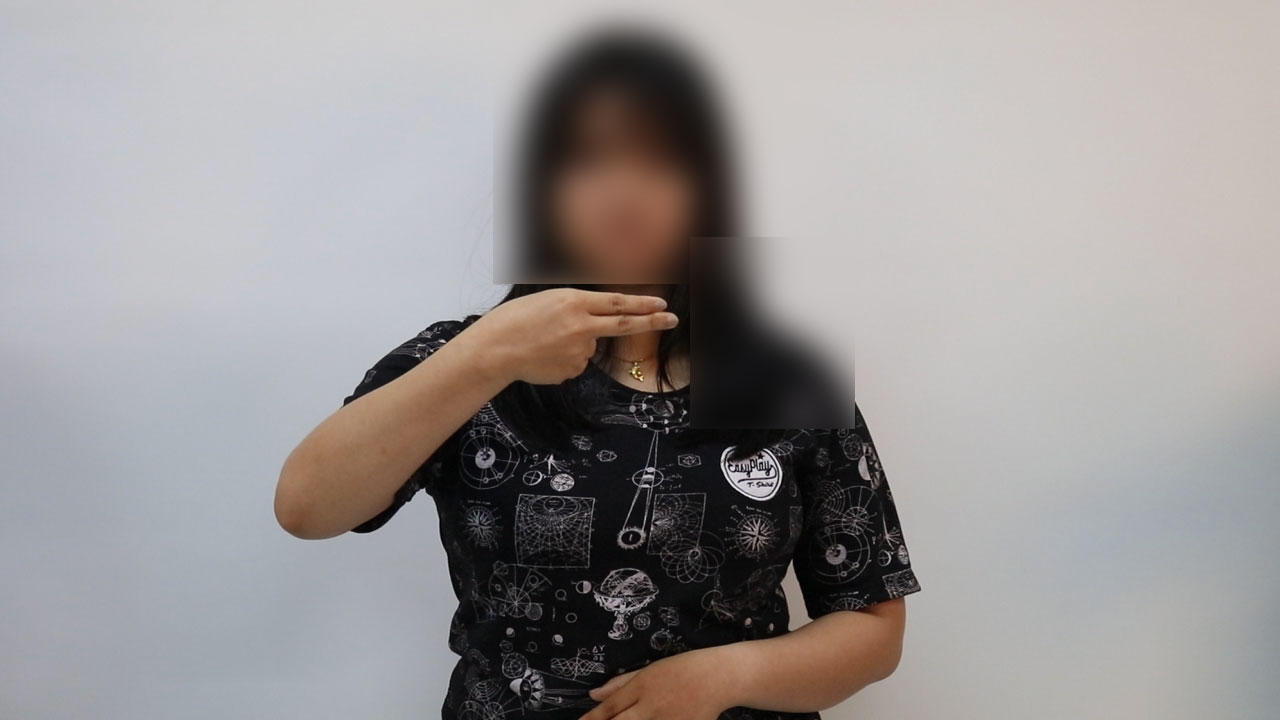hor: (443, 275, 696, 404)
